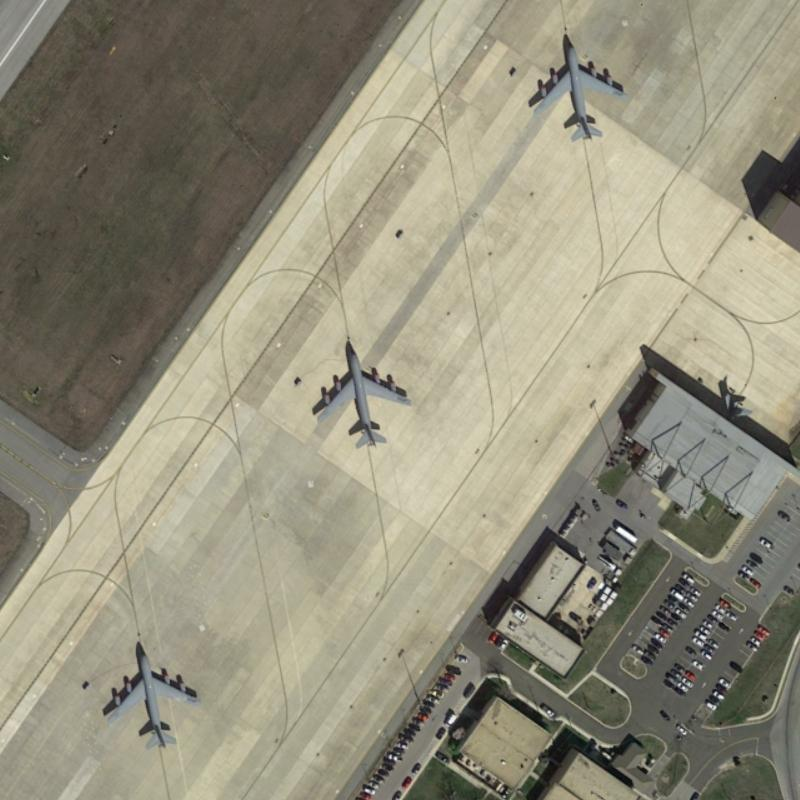A14: (95, 634, 207, 753), (521, 27, 631, 143), (307, 337, 414, 454)
